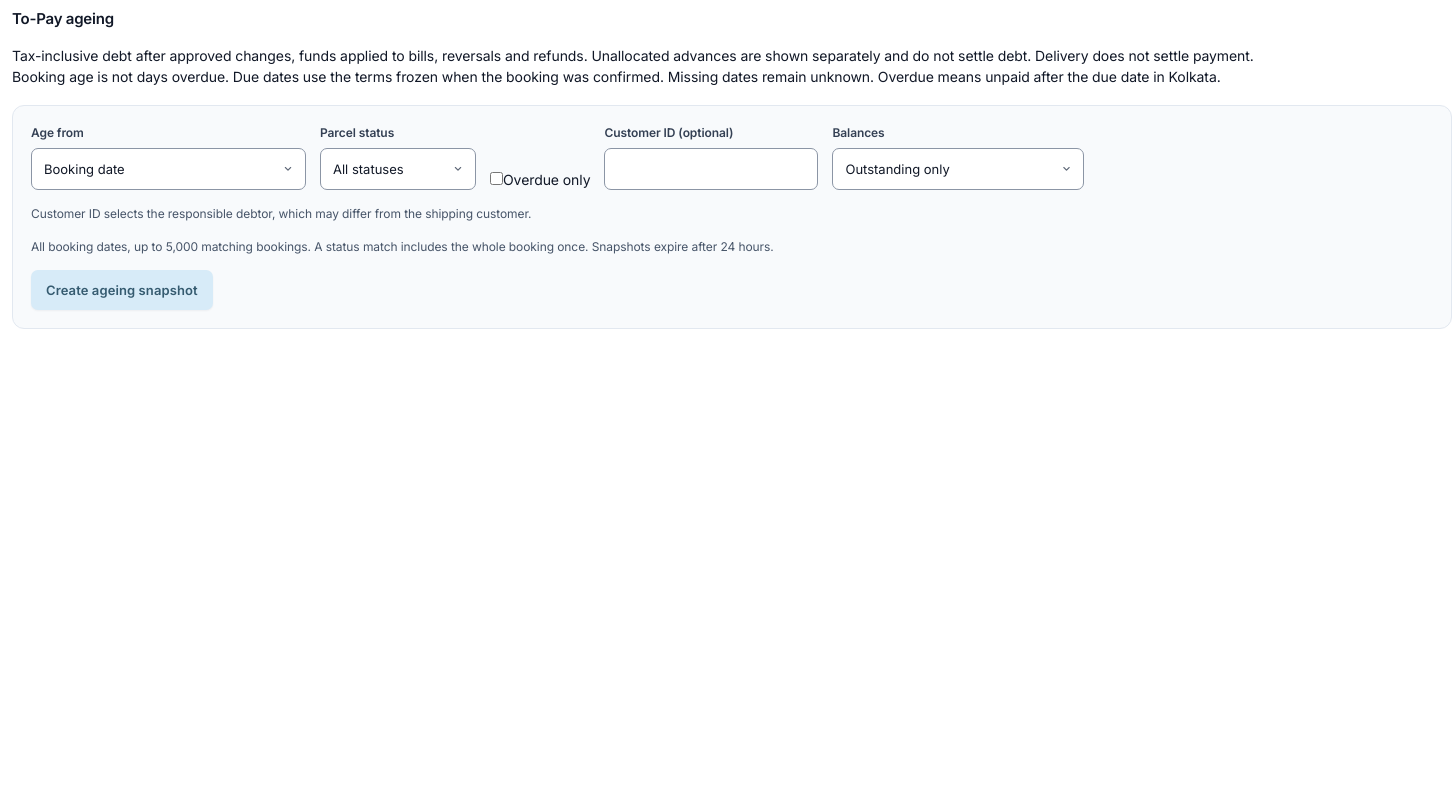
ageing report UI › uses explicit age and status filters, restores saved evidence and exports the saved ID
This screenshot has width=1452, height=810.
Select "Due date (unknown without terms)" in the dropdown labelled "Age from" at (168, 169), box [31,148,306,190]
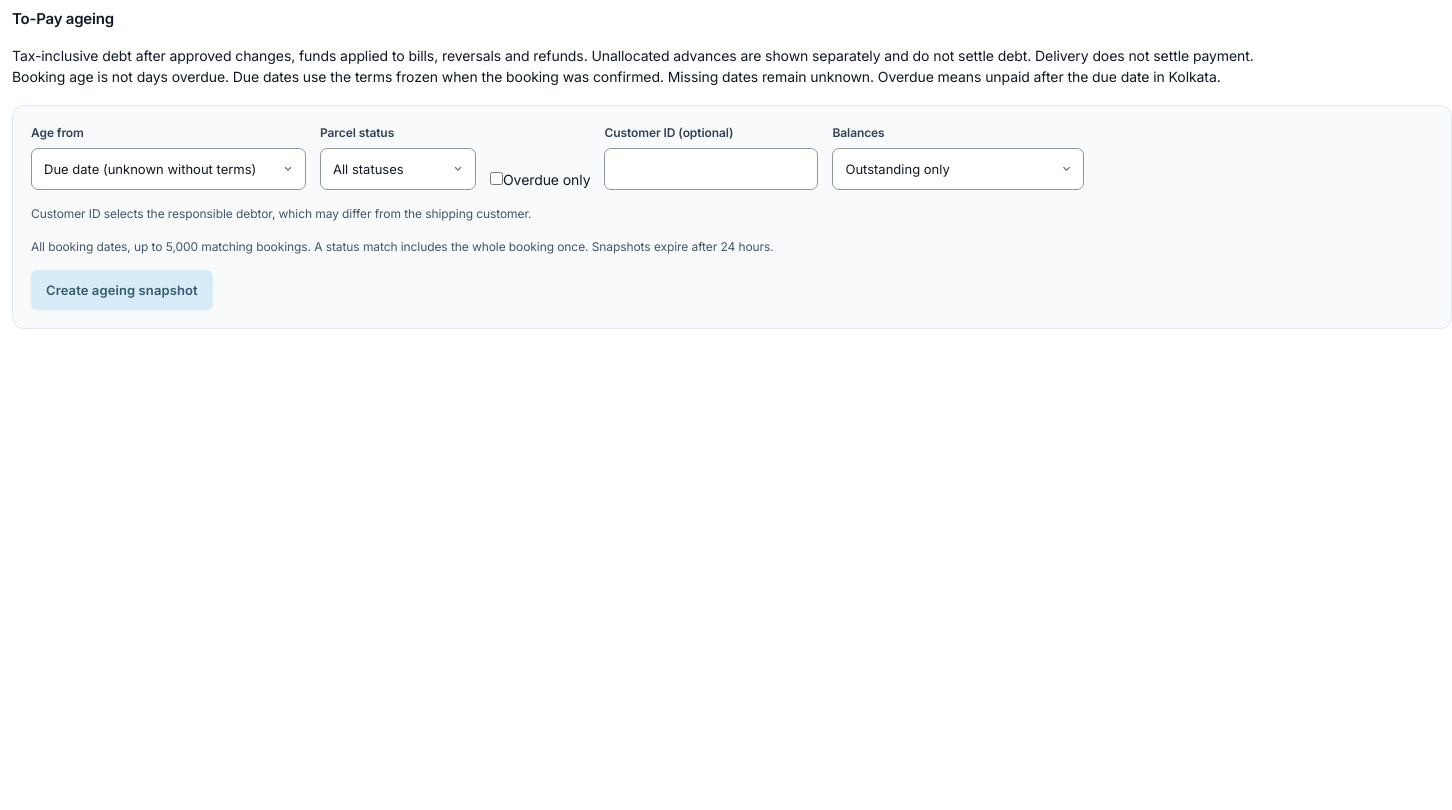
Select "delivered" in the dropdown labelled "Parcel status" at (398, 169), box [320,148,476,190]
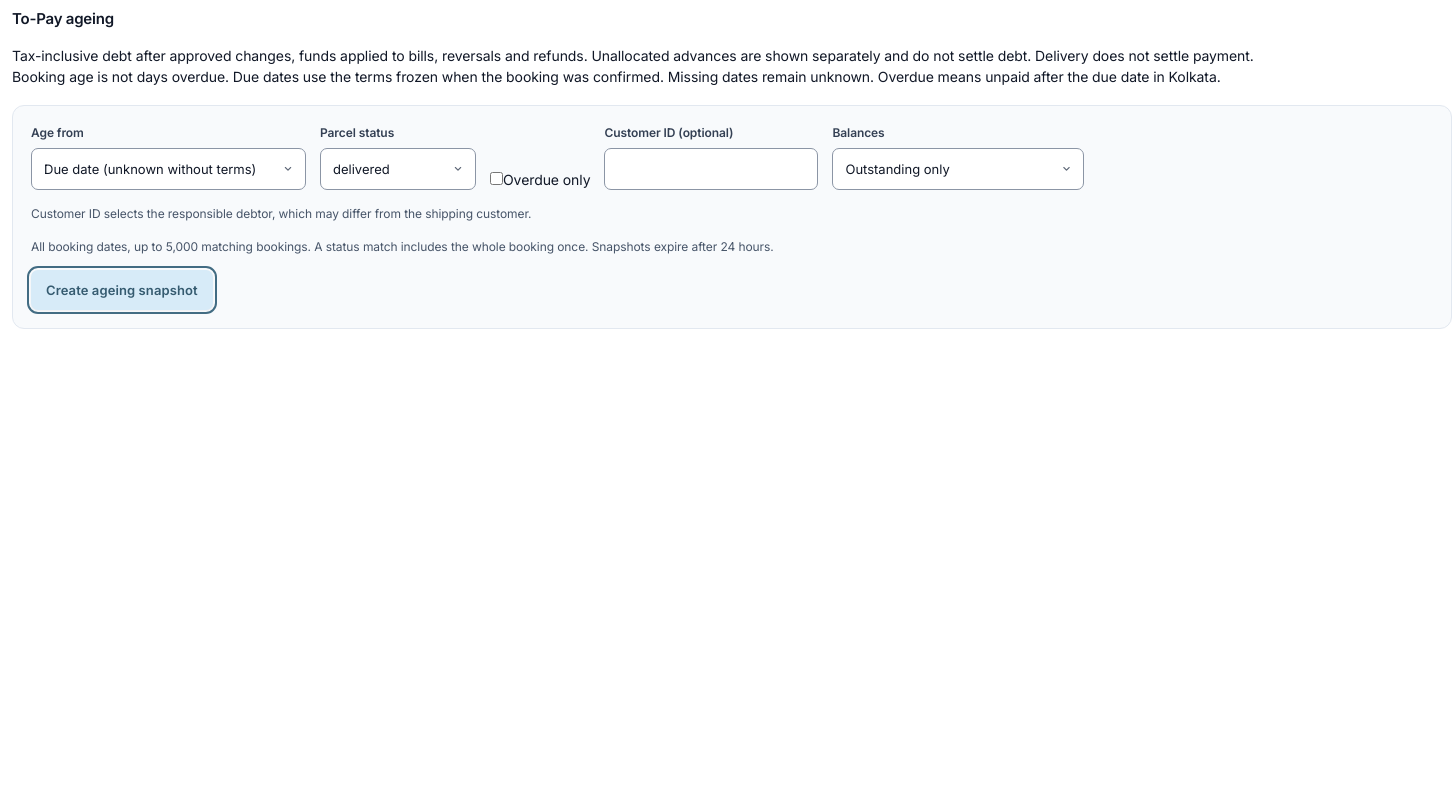
Submit the form named "Create ageing snapshot", box [12,105,1451,329]
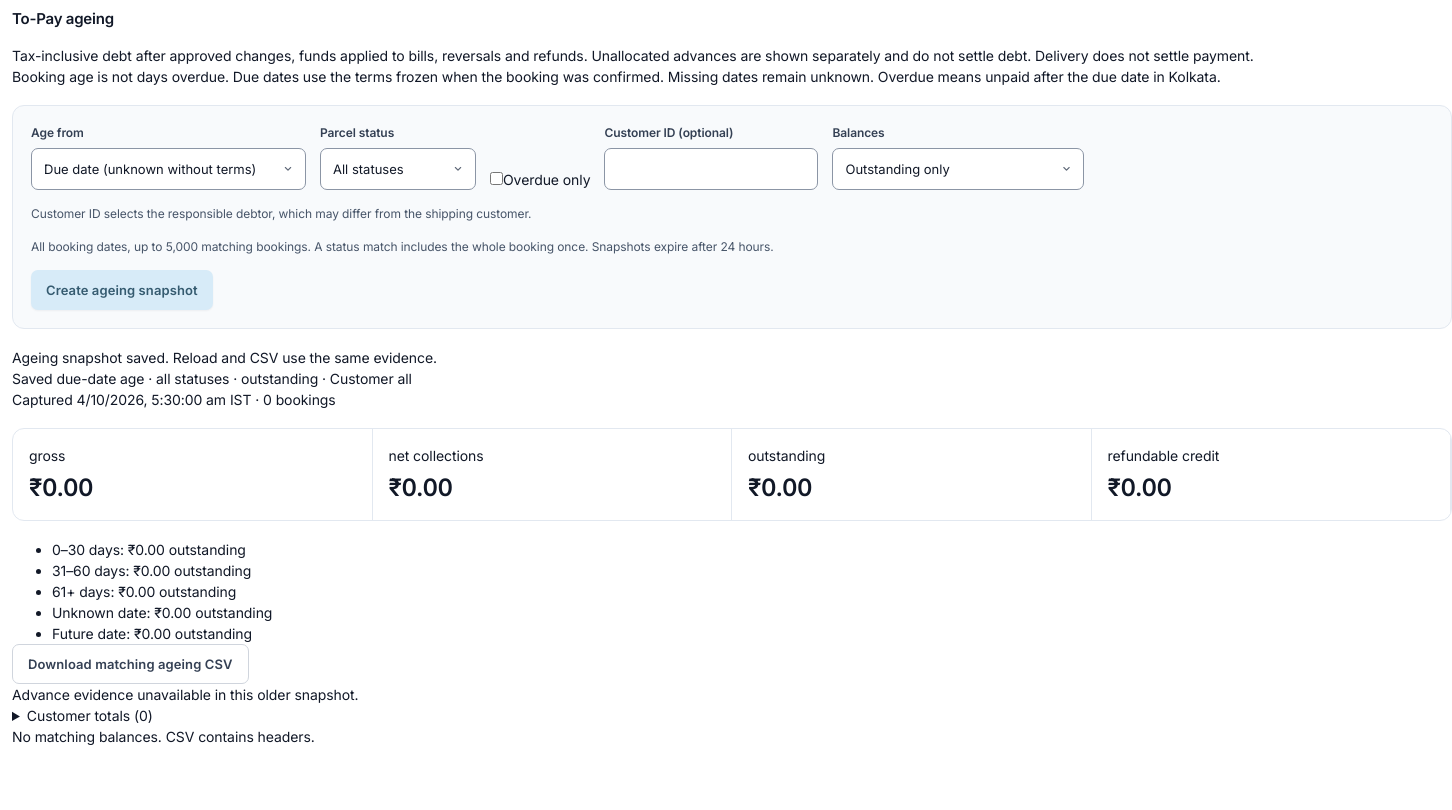
Expected: the text "Booking age is not days overdue" is shown, [12,68,1221,85]
Expected: the text "No matching balances. CSV contains headers." is shown, [12,728,315,745]
Click the button "Download matching ageing CSV" at (130, 664), box [12,644,248,684]
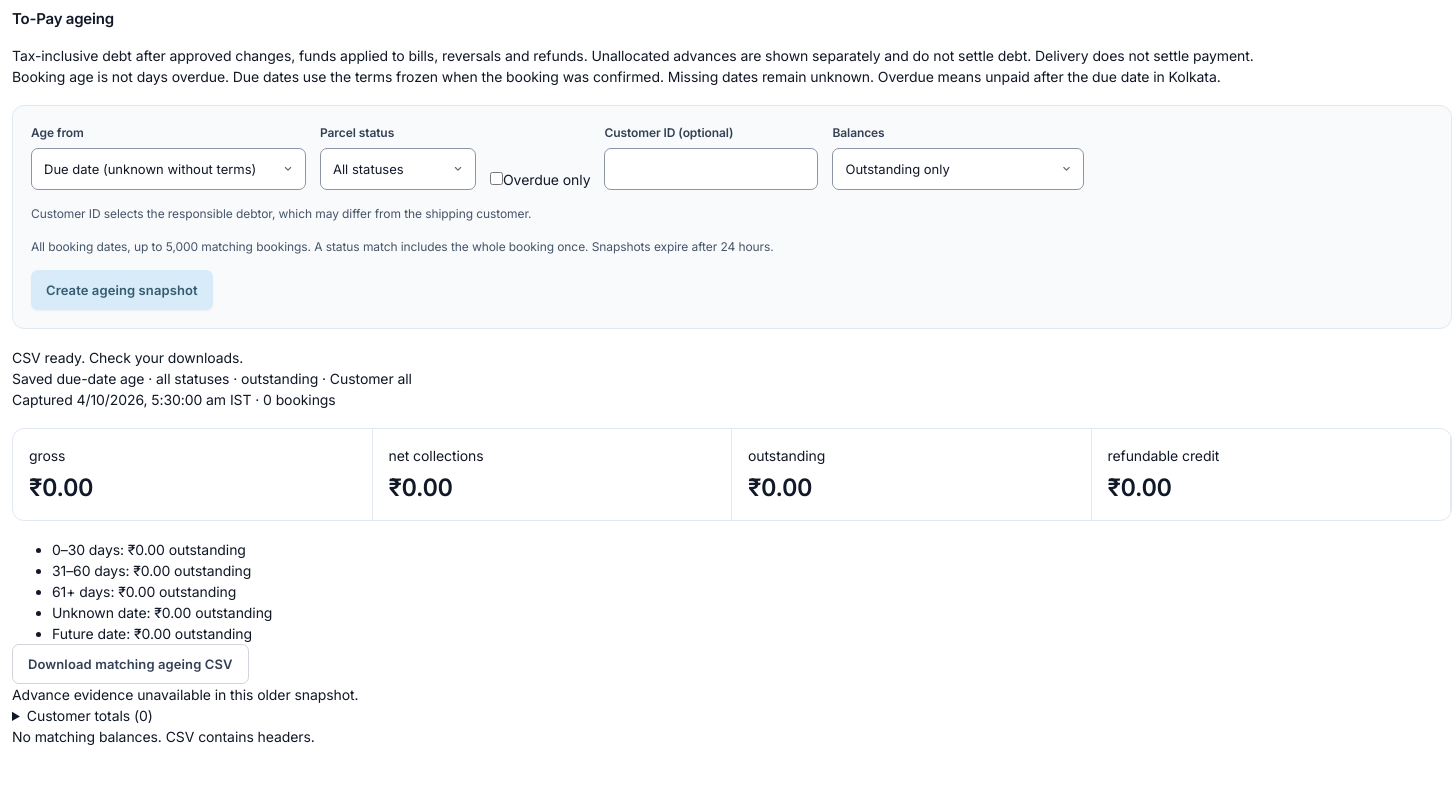
Expected: the text "CSV ready. Check your downloads." is shown, [12,349,243,366]
